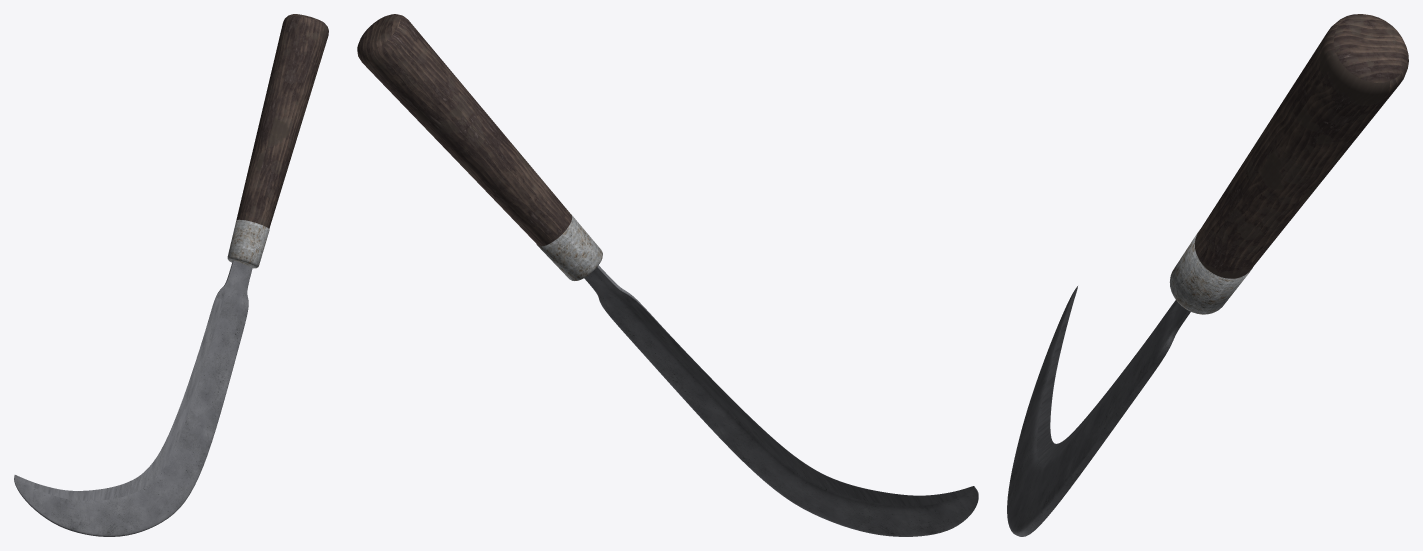
The model's file is hasiya_final_model.glb.
The picture shows the model from 3 angles, left to right: view 1: azimuth 30°, elevation 25°; view 2: azimuth 150°, elevation 25°; view 3: azimuth 270°, elevation 25°; orthographic projection. The views are drawn at different scales.
Parts seen in each view (by area): view 1: Object_3, Object_5, Object_4, Object_2; view 2: Object_5, Object_3, Object_4, Object_2; view 3: Object_5, Object_3, Object_2, Object_4.
Boxes of the visible parts, <box> form: Object_3: <box>14,260,252,536</box>; Object_5: <box>236,14,328,228</box>; Object_4: <box>14,296,224,500</box>; Object_2: <box>227,219,269,268</box>; Object_5: <box>357,14,572,246</box>; Object_3: <box>584,265,978,536</box>; Object_4: <box>629,299,974,505</box>; Object_2: <box>536,214,602,280</box>; Object_5: <box>1194,14,1408,278</box>; Object_3: <box>1007,288,1190,536</box>; Object_2: <box>1169,230,1252,314</box>; Object_4: <box>1036,286,1173,463</box>.
Bounding box in the file's own units: 3.22 × 3.09 × 1.53.
4 materials, 4 textured.
